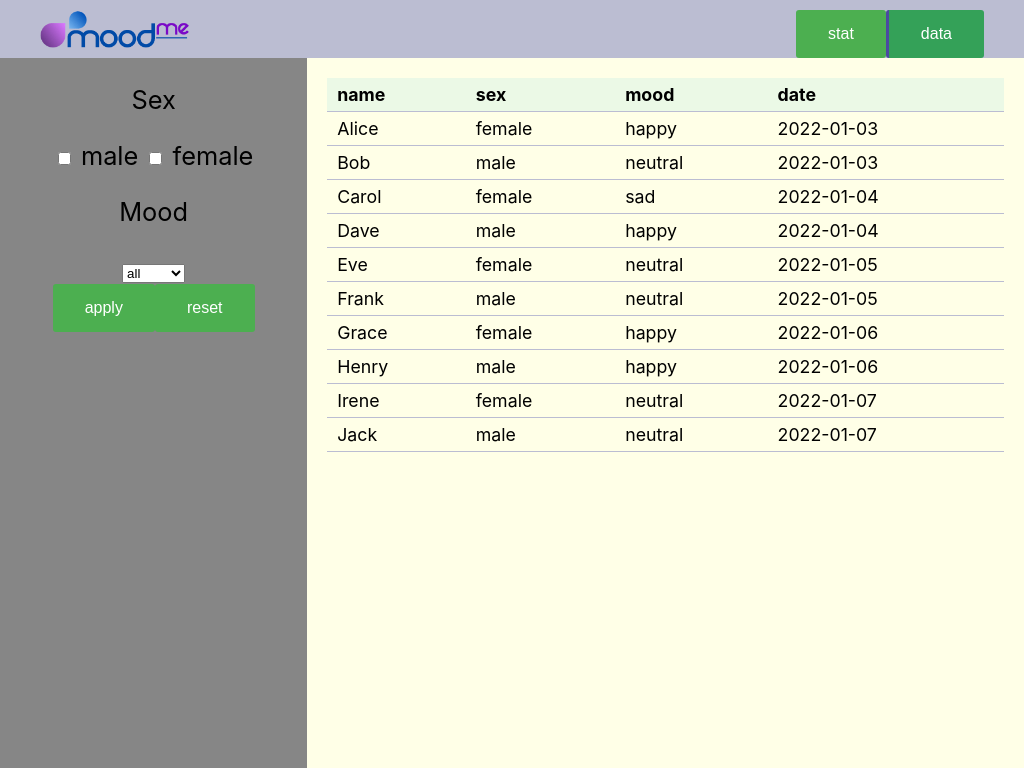
Test: applies the mood filter to both views
Select "happy" in the dropdown named "mood" at (154, 273), box x1=122 y1=264 x2=185 y2=283
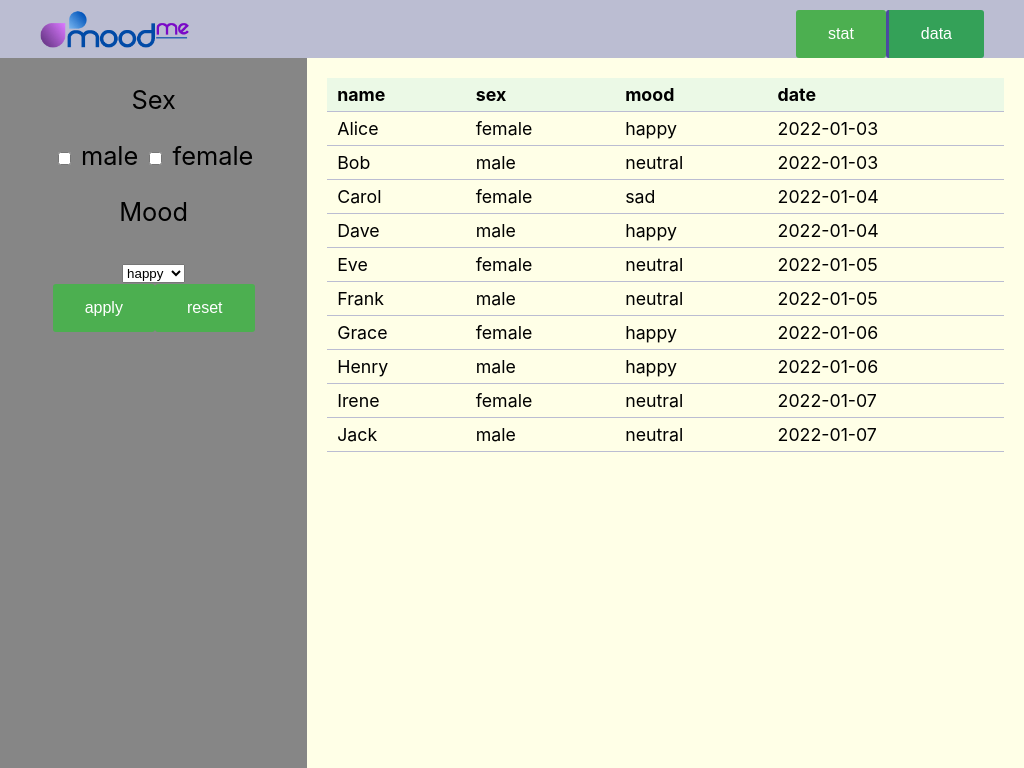
Click the button "apply" at (104, 308), box x1=53 y1=284 x2=155 y2=332
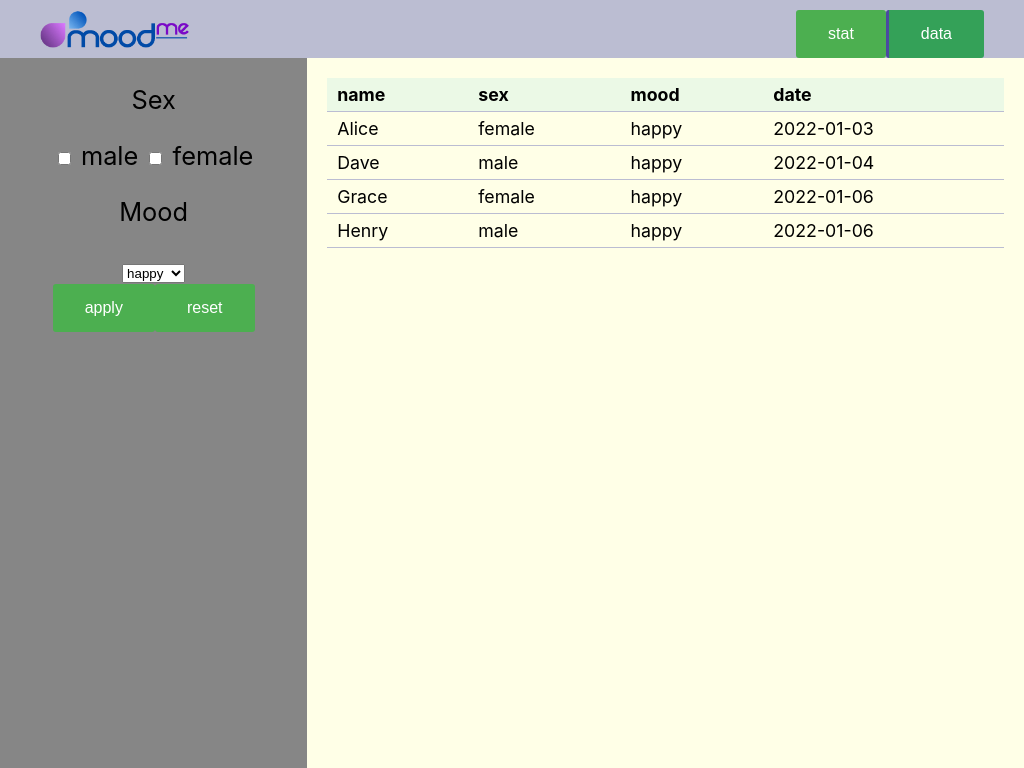
Click the button labelled "stat" at (841, 34), box x1=796 y1=10 x2=886 y2=58
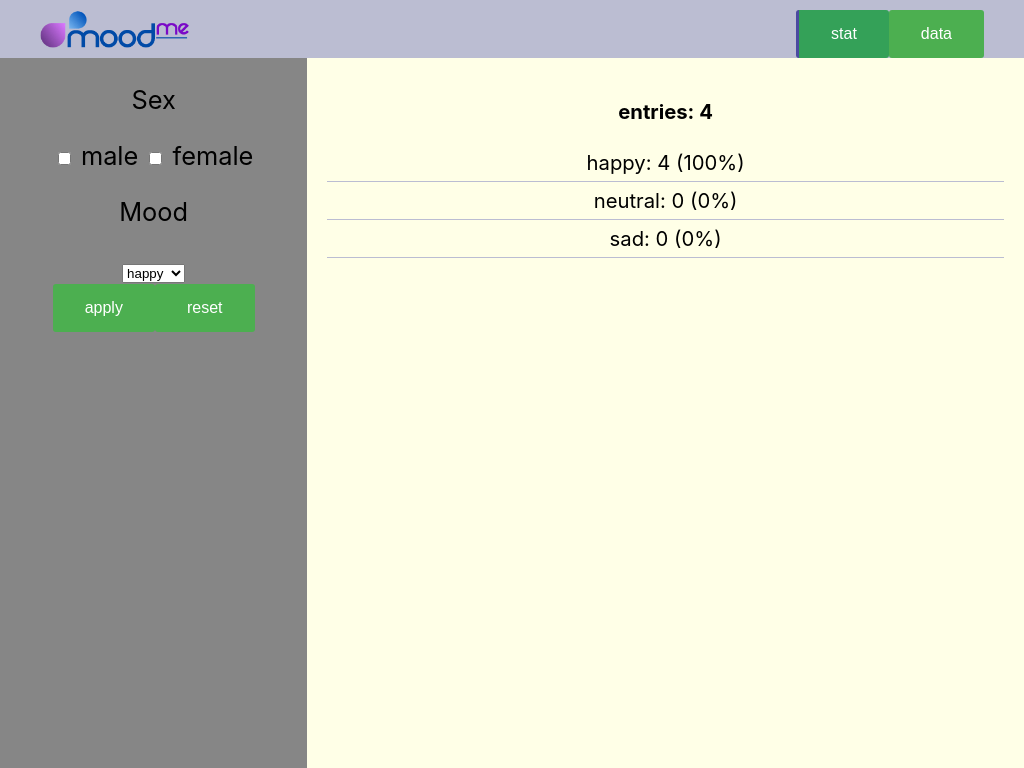
Now the text "entries: 4" is shown, box x1=618 y1=99 x2=713 y2=124
Now the list item "happy: 4 (100%)" is shown, box x1=327 y1=144 x2=1004 y2=182
